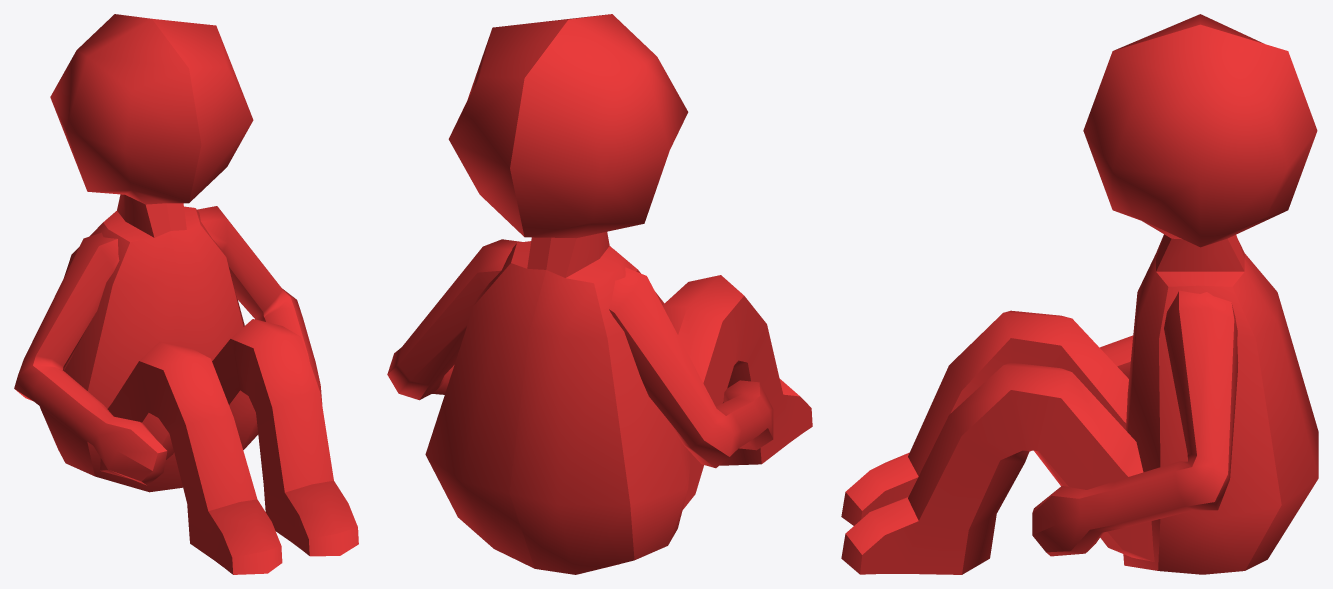
The model's file is human_sit.fbx.
The picture shows the model from 3 angles, left to right: view 1: azimuth 30°, elevation 25°; view 2: azimuth 150°, elevation 25°; view 3: azimuth 270°, elevation 25°; orthographic projection. The views are drawn at different scales.
Visible parts, largest first — view 1: human; view 2: human; view 3: human.
Part boxes in pixels (x1=…): human: x1=14, y1=14, x2=358, y2=574; human: x1=387, y1=14, x2=812, y2=574; human: x1=841, y1=14, x2=1318, y2=574.
Size of the model in its own units: 6.6 by 10.08 by 8.12.
